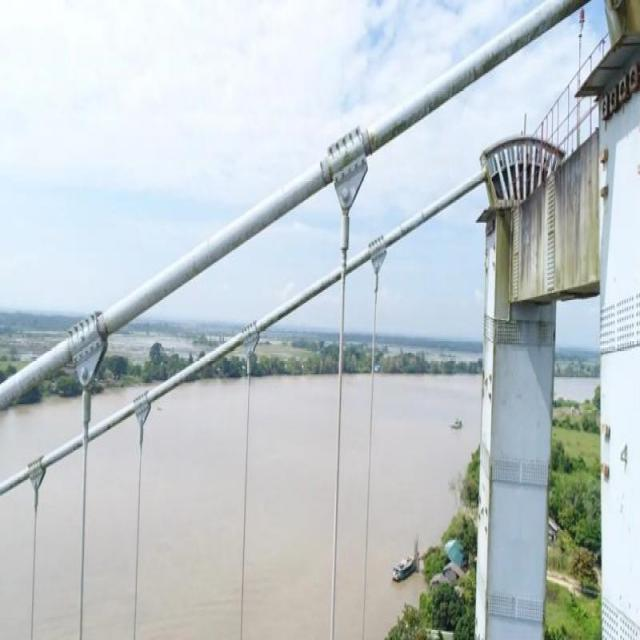Slippage: (320, 156, 332, 186), (362, 127, 372, 158), (97, 312, 108, 336)
